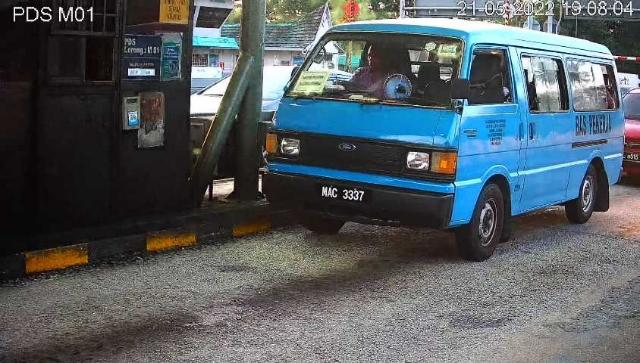License_Plate: (318, 183, 373, 210)
van: (265, 20, 627, 263)
